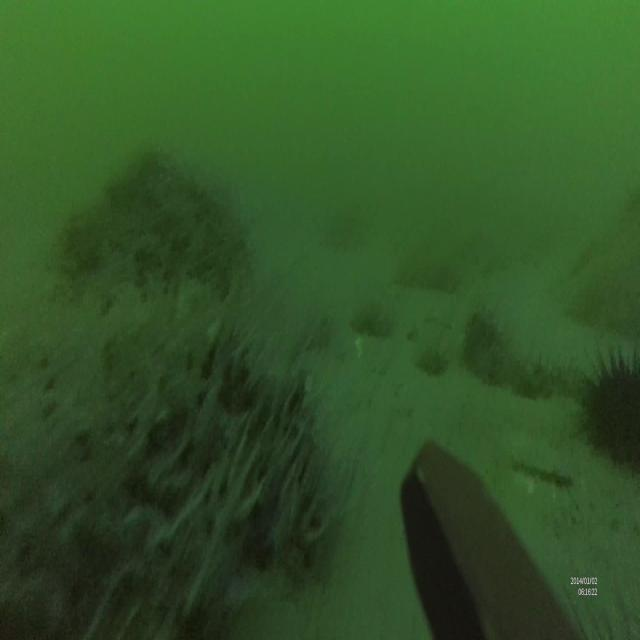echinus: (583, 342, 640, 478)
